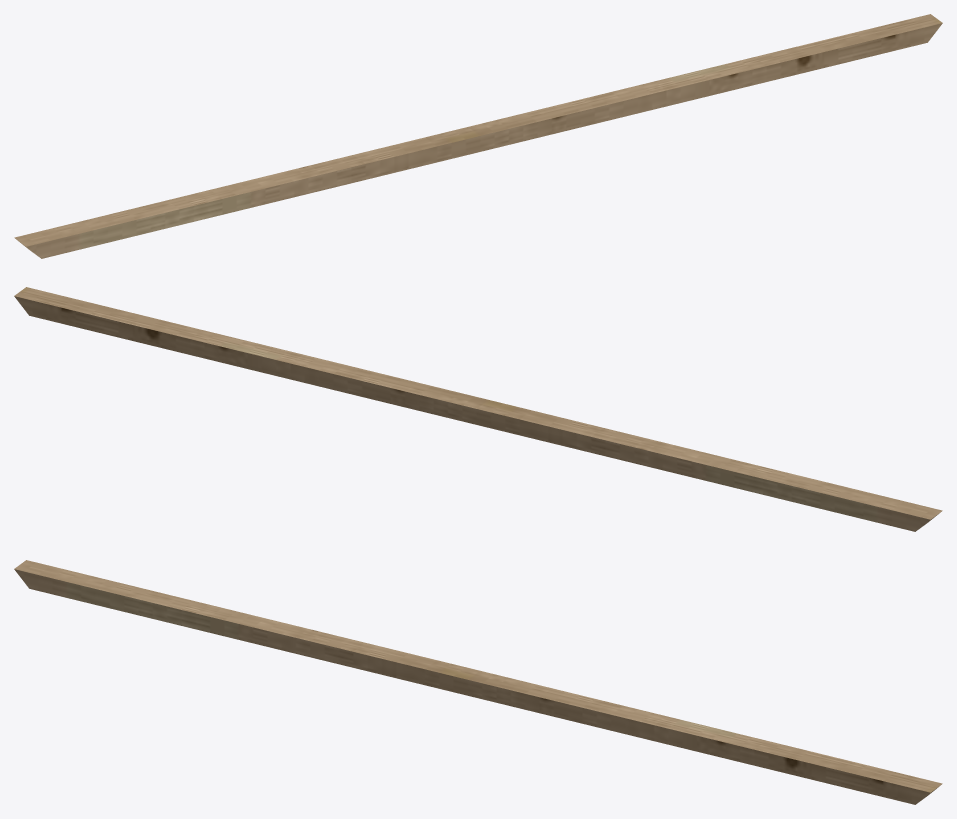
The model's file is Joglo_part_63.fbx.
3 renders of one model, top to bottom at view 1: azimuth 30°, elevation 25°; view 2: azimuth 150°, elevation 25°; view 3: azimuth 330°, elevation 25°, orthographic.
Visible parts, largest first — view 1: Mesh154_Wood___Pine_Grained_Horizontal_0.001; view 2: Mesh154_Wood___Pine_Grained_Horizontal_0.001; view 3: Mesh154_Wood___Pine_Grained_Horizontal_0.001.
Part boxes in pixels (x1,y1,x2,y2): Mesh154_Wood___Pine_Grained_Horizontal_0.001: [14, 14, 942, 258]; Mesh154_Wood___Pine_Grained_Horizontal_0.001: [14, 287, 942, 531]; Mesh154_Wood___Pine_Grained_Horizontal_0.001: [14, 560, 942, 804].
Size of the model in its own units: 59.05 by 0.9842 by 1.38.
